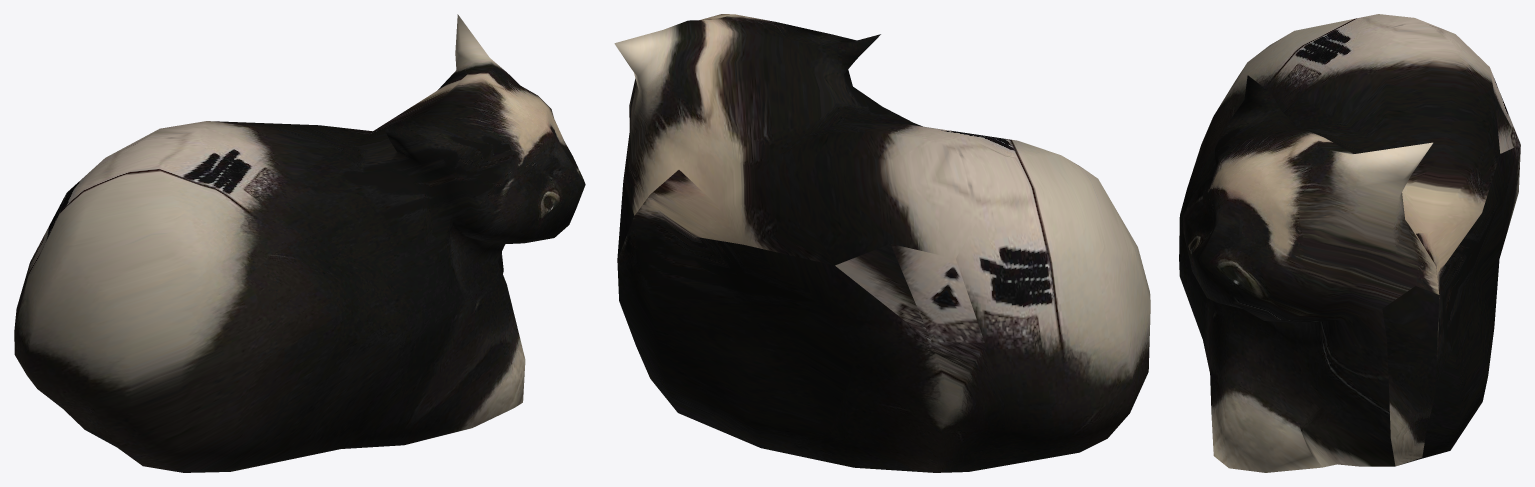
The model's file is maxwell.obj.
3 views of the same model, side by side, from view 1: azimuth 30°, elevation 25°; view 2: azimuth 150°, elevation 25°; view 3: azimuth 270°, elevation 25° (orthographic). The views are drawn at different scales.
Parts seen in each view (by area): view 1: obj1; view 2: obj1; view 3: obj1.
Part boxes in pixels (x1=…): obj1: x1=14, y1=14, x2=585, y2=472; obj1: x1=614, y1=14, x2=1150, y2=472; obj1: x1=1179, y1=14, x2=1520, y2=472.
Size of the model in its own units: 29.82 by 19.21 by 16.49.
